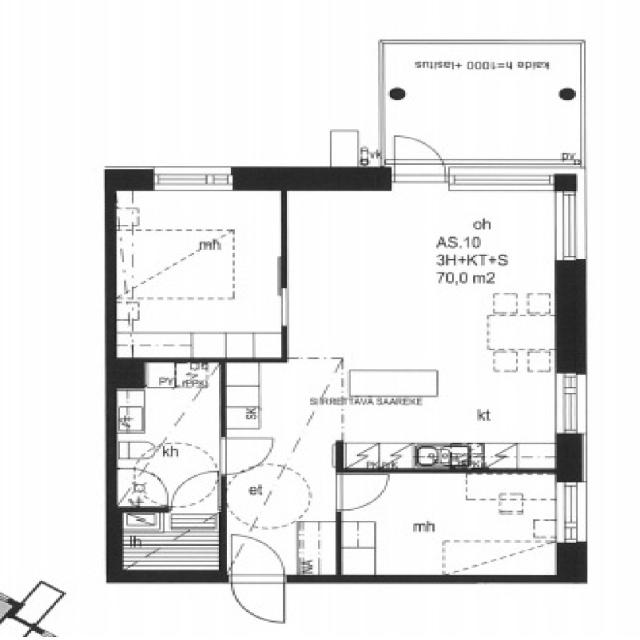door: (226, 533, 292, 627), (380, 130, 450, 187), (330, 468, 394, 512), (216, 433, 278, 477), (166, 469, 222, 510)
window: (143, 161, 247, 195), (548, 186, 590, 268), (552, 476, 592, 553), (553, 366, 591, 443), (448, 171, 558, 192), (5, 616, 57, 640), (275, 285, 294, 331)
zone: (296, 173, 577, 470), (108, 184, 286, 357), (342, 470, 566, 578), (113, 362, 225, 512), (115, 510, 226, 576)
